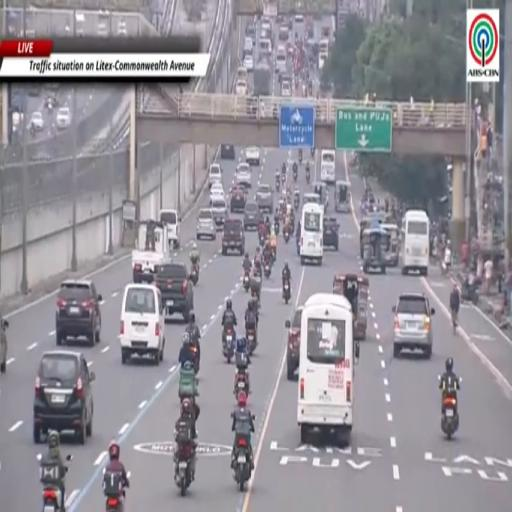bus: (297, 294, 359, 443), (400, 210, 429, 276), (300, 203, 324, 264)
car: (33, 350, 95, 444), (119, 277, 165, 365), (56, 280, 102, 346), (393, 293, 434, 358), (155, 262, 193, 322), (285, 307, 302, 379), (222, 219, 245, 254), (197, 208, 216, 239), (210, 198, 228, 230), (256, 184, 273, 213), (244, 201, 260, 230), (324, 218, 338, 250), (230, 186, 246, 213), (236, 163, 251, 187), (56, 107, 70, 130), (30, 111, 44, 132), (209, 164, 221, 187), (246, 147, 260, 166), (210, 183, 224, 202), (221, 144, 235, 159), (243, 55, 254, 72), (97, 22, 109, 37), (281, 80, 291, 97), (236, 80, 247, 95), (318, 53, 327, 71), (246, 24, 255, 42), (117, 20, 127, 36), (279, 25, 289, 41), (279, 73, 291, 83), (287, 16, 293, 31), (295, 14, 303, 23)
motorcycle: (175, 443, 193, 495), (234, 437, 251, 491), (441, 391, 458, 440), (42, 485, 62, 511), (222, 327, 235, 364), (234, 368, 250, 398), (106, 490, 124, 511), (246, 329, 257, 356), (190, 343, 199, 374), (191, 263, 199, 285), (252, 290, 260, 312), (283, 280, 290, 303), (243, 271, 250, 292), (264, 260, 271, 280), (283, 229, 290, 244), (305, 168, 311, 184), (271, 247, 276, 264), (274, 221, 279, 235), (294, 196, 299, 209), (276, 178, 280, 193), (298, 150, 302, 164), (293, 168, 297, 182), (282, 174, 285, 184), (311, 148, 314, 157)
truck: (132, 220, 169, 282), (159, 208, 181, 250), (253, 62, 272, 98), (253, 63, 272, 95)
